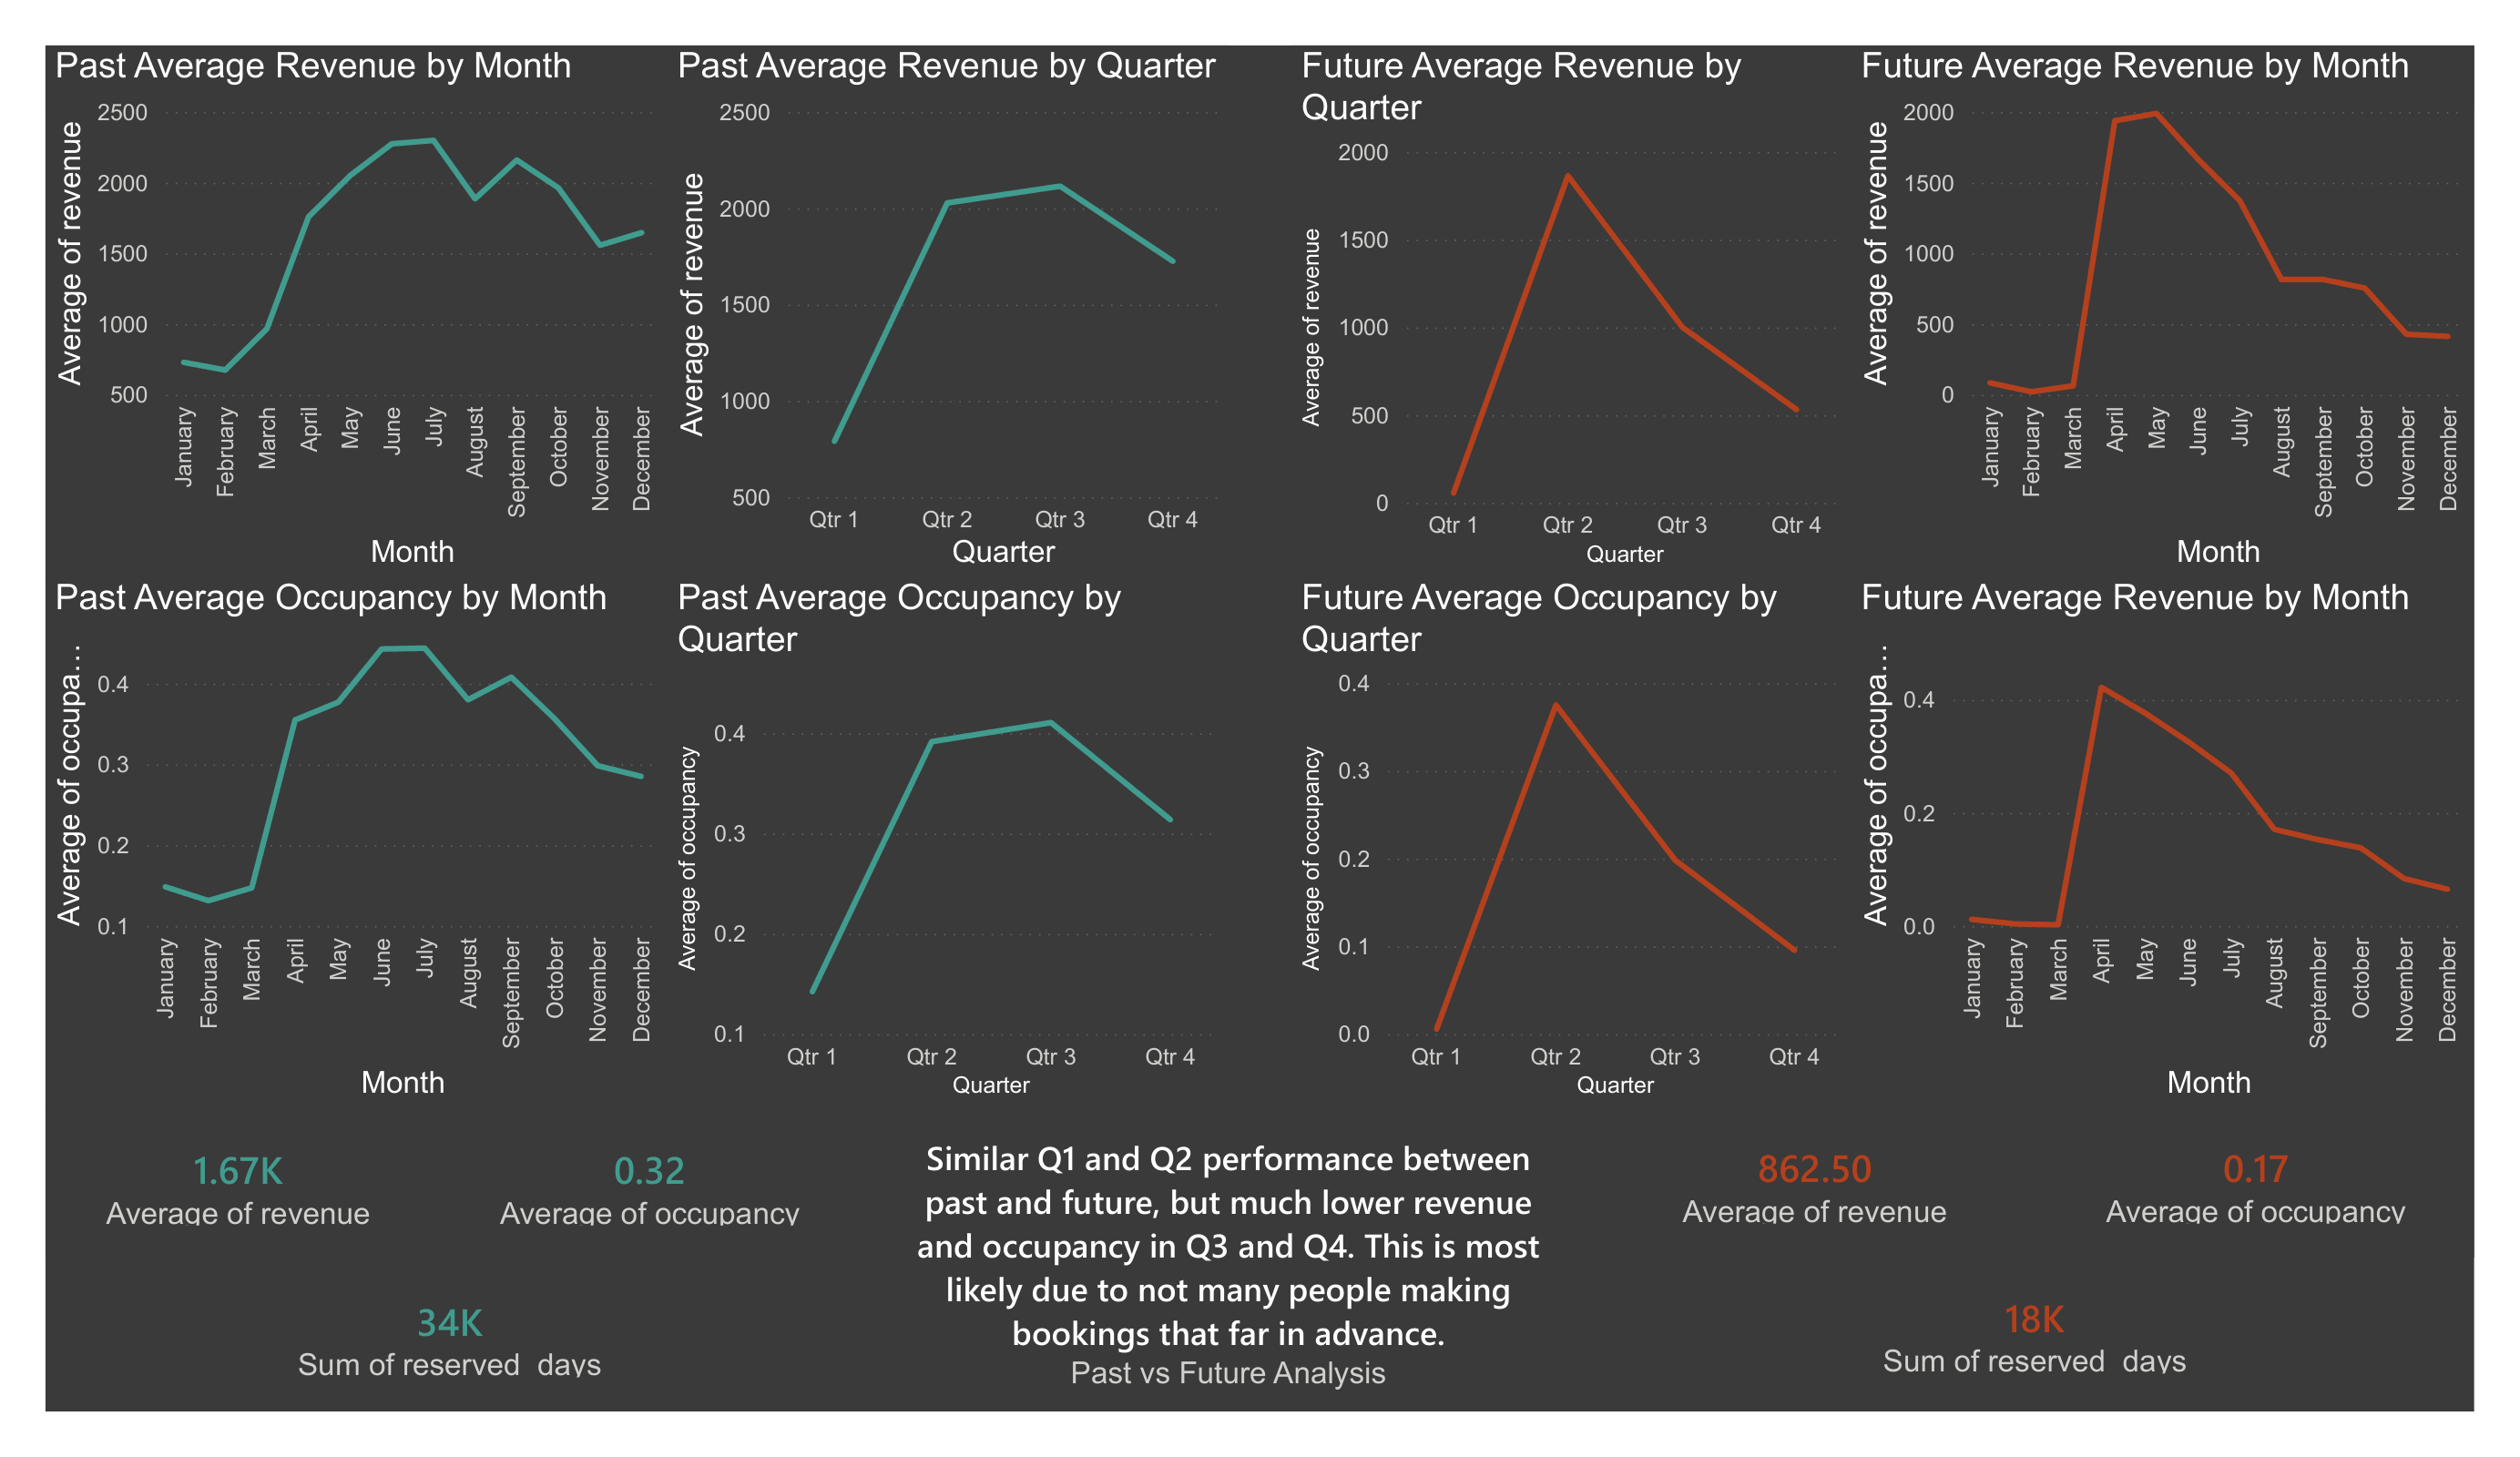

Layout of this report page (visuals, bound fields, positions):
{"tool":"powerbi","page":{"name":"Seasonality & Future Performance","canvas":[1280,720],"ordinal":3},"visuals":[{"type":"lineChart","title":"Past Average Revenue by Month","fields":{"Category":["pastcalendarrates2.date.Variation.Date Hierarchy.Month"],"Y":["Avg(pastcalendarrates2.revenue)"]},"box":[0,0,328.4,280.1],"z":0},{"type":"lineChart","title":"Past Average Occupancy by Month","fields":{"Category":["pastcalendarrates2.date.Variation.Date Hierarchy.Month"],"Y":["Avg(pastcalendarrates2.occupancy)"]},"box":[0,280.1,328.4,280.1],"z":1000},{"type":"lineChart","title":"Past Average Revenue by Quarter","fields":{"Category":["pastcalendarrates2.date.Variation.Date Hierarchy.Quarter"],"Y":["Avg(pastcalendarrates2.revenue)"]},"box":[328.4,0,295,280.1],"z":2000},{"type":"lineChart","title":"Past Average Occupancy by Quarter","fields":{"Category":["pastcalendarrates2.date.Variation.Date Hierarchy.Quarter"],"Y":["Avg(pastcalendarrates2.occupancy)"]},"box":[328.4,280.1,295,280.1],"z":3000},{"type":"lineChart","title":"Future Average Revenue by Month","fields":{"Category":["future_calendar_rates3.date.Variation.Date Hierarchy.Month"],"Y":["Avg(future_calendar_rates3.revenue)"]},"box":[951.8,0,328.4,280],"z":4000},{"type":"lineChart","title":"Future Average Revenue by Month","fields":{"Category":["future_calendar_rates3.date.Variation.Date Hierarchy.Month"],"Y":["Avg(future_calendar_rates3.occupancy)"]},"box":[951.8,280.1,328.4,280.1],"z":5000},{"type":"lineChart","title":"Future Average Revenue by Quarter","fields":{"Y":["Avg(future_calendar_rates3.revenue)"],"Category":["future_calendar_rates3.date.Variation.Date Hierarchy.Quarter"]},"box":[656.8,0,295,280.1],"z":6000},{"type":"lineChart","title":"Future Average Occupancy by Quarter","fields":{"Y":["Avg(future_calendar_rates3.occupancy)"],"Category":["future_calendar_rates3.date.Variation.Date Hierarchy.Quarter"]},"box":[656.8,280.1,295,280.1],"z":7000},{"type":"cardVisual","fields":{"Data":["Avg(future_calendar_rates3.occupancy)"]},"box":[1047.5,560.2,232.7,79],"z":7001},{"type":"cardVisual","fields":{"Data":["Avg(future_calendar_rates3.revenue)"]},"box":[814.8,560.2,232.7,79],"z":7002},{"type":"cardVisual","fields":{"Data":["Avg(pastcalendarrates2.revenue)"]},"box":[0,560.2,201.1,79.9],"z":7003},{"type":"cardVisual","fields":{"Data":["Avg(pastcalendarrates2.occupancy)"]},"box":[201.1,560.2,232.7,79.9],"z":7004},{"type":"cardVisual","fields":{"Data":["pastcalendarrates2.Past vs Future Analysis"]},"box":[453,560,339,160],"z":7005},{"type":"cardVisual","fields":{"Data":["Sum(future_calendar_rates3.reserved_days)"]},"box":[931.6,639.2,231.8,79],"z":7006},{"type":"cardVisual","fields":{"Data":["Sum(pastcalendarrates2.reserved_days)"]},"box":[95.7,640.1,232.7,79.9],"z":7007}]}

Visuals, with their boxes on the page's 1280x720 design canvas (x1, y1, x2, y2). These are canvas units, not pixel positions in the 2520x1457 screenshot, which may show the page scaled, cropped or inside an application window:
"Past Average Revenue by Month" lineChart: 0,0,328,280
"Past Average Occupancy by Month" lineChart: 0,280,328,560
"Past Average Revenue by Quarter" lineChart: 328,0,623,280
"Past Average Occupancy by Quarter" lineChart: 328,280,623,560
"Future Average Revenue by Month" lineChart: 952,0,1280,280
"Future Average Revenue by Month" lineChart: 952,280,1280,560
"Future Average Revenue by Quarter" lineChart: 657,0,952,280
"Future Average Occupancy by Quarter" lineChart: 657,280,952,560
cardVisual - Avg(future_calendar_rates3.occupancy): 1048,560,1280,639
cardVisual - Avg(future_calendar_rates3.revenue): 815,560,1048,639
cardVisual - Avg(pastcalendarrates2.revenue): 0,560,201,640
cardVisual - Avg(pastcalendarrates2.occupancy): 201,560,434,640
cardVisual - pastcalendarrates2.Past vs Future Analysis: 453,560,792,720
cardVisual - Sum(future_calendar_rates3.reserved_days): 932,639,1163,718
cardVisual - Sum(pastcalendarrates2.reserved_days): 96,640,328,720
